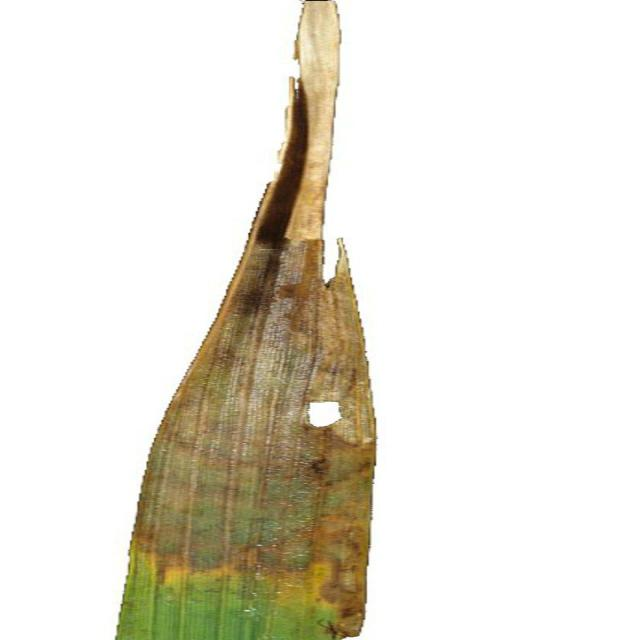Leaf scald: (72, 0, 522, 640)
